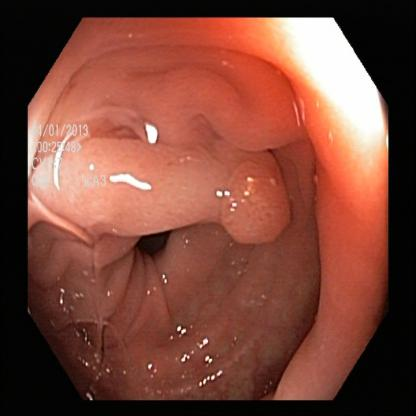Labels: (29, 118, 114, 193)
Polyps: (204, 137, 303, 243)
